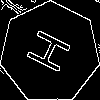H: (25, 27, 81, 80)
